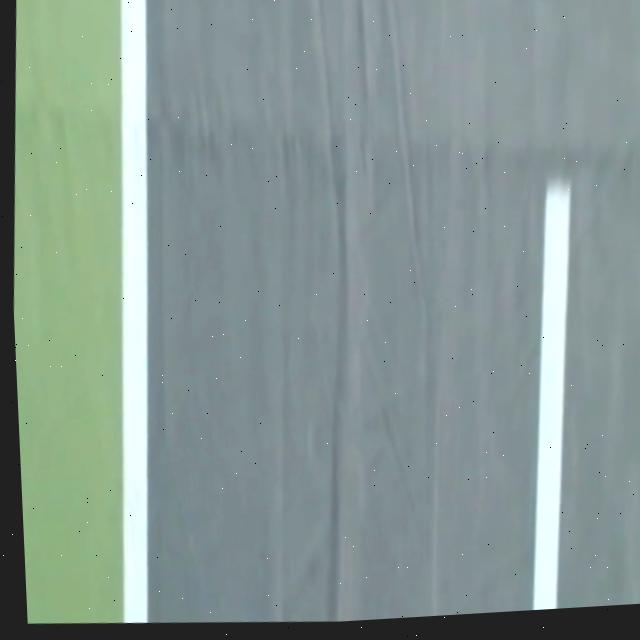center: (533, 180, 571, 610)
right: (122, 0, 148, 623)
